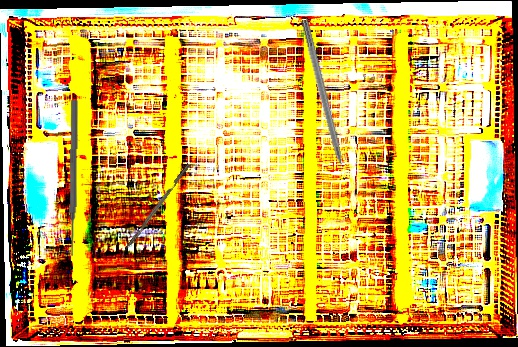Chopper: (116, 163, 195, 263)
Hook Surgical: (298, 18, 351, 188)
Pusher: (66, 99, 80, 257)
